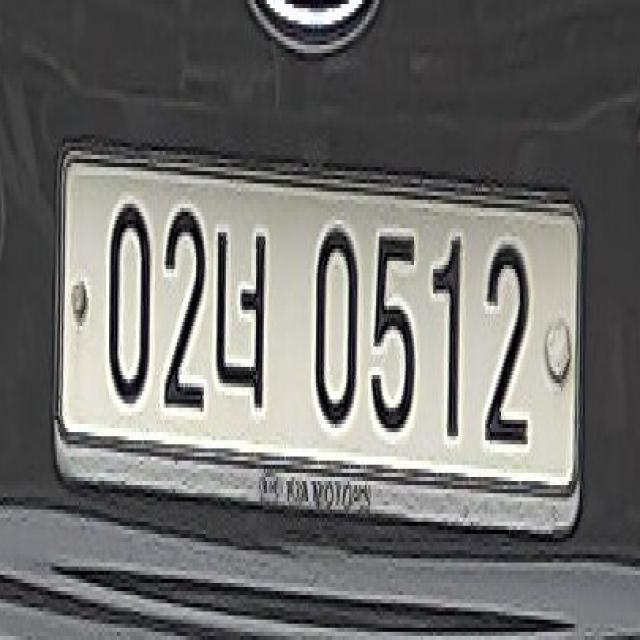0: (304, 216, 366, 457), (102, 176, 152, 427)
1: (426, 218, 469, 464)
2: (482, 230, 546, 462), (158, 194, 211, 434)
5: (372, 218, 425, 438)
license_plate: (42, 104, 596, 554)
neo: (214, 206, 274, 436)
